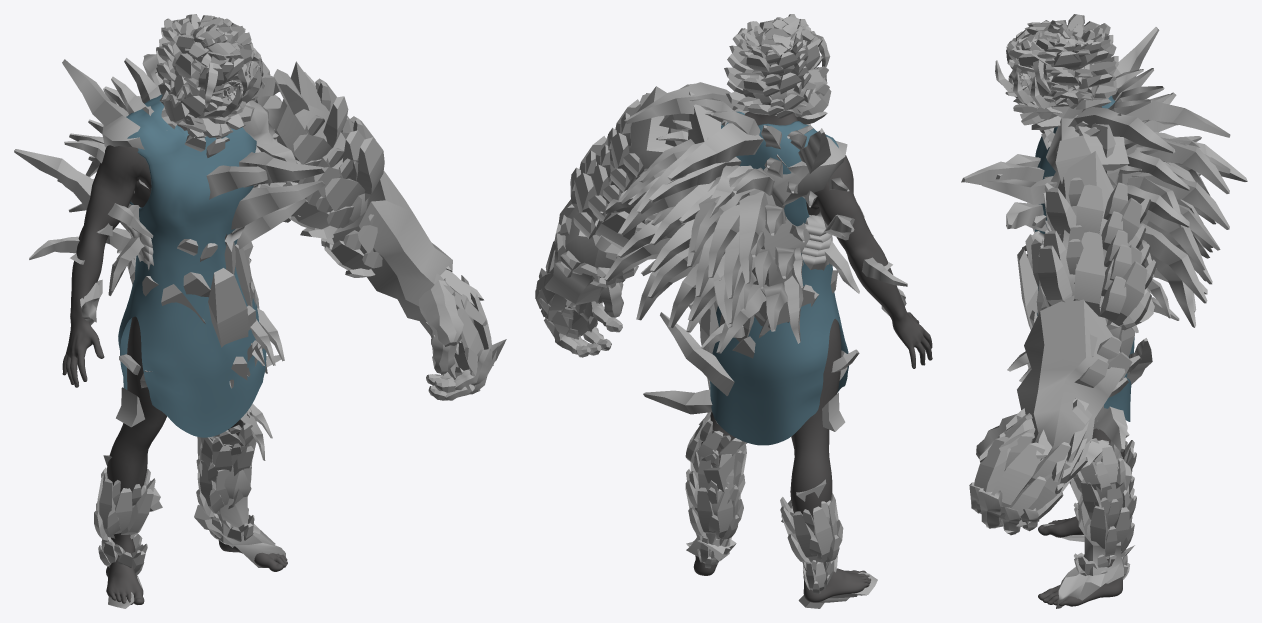
The model's file is ObsidianFBX.fbx.
3 renders of one model, left to right at view 1: azimuth 30°, elevation 25°; view 2: azimuth 150°, elevation 25°; view 3: azimuth 270°, elevation 25°, orthographic. The views are drawn at different scales.
Visible parts, largest first — view 1: polySurface5249, Poncho, polySurface4279, polySurface4261, polySurface4845, polySurface4414; view 2: polySurface4279, polySurface5249, Poncho, polySurface4845, polySurface4261, polySurface4414; view 3: polySurface5249, polySurface4279, polySurface4414, polySurface4845, polySurface4261, Poncho.
Part boxes in pixels (x1=…): polySurface5249: x1=249, y1=60, x2=506, y2=400; Poncho: x1=118, y1=94, x2=266, y2=437; polySurface4279: x1=14, y1=41, x2=325, y2=427; polySurface4261: x1=62, y1=102, x2=287, y2=604; polySurface4845: x1=94, y1=340, x2=285, y2=608; polySurface4414: x1=155, y1=14, x2=263, y2=138; polySurface4279: x1=604, y1=82, x2=907, y2=431; polySurface5249: x1=535, y1=83, x2=694, y2=357; Poncho: x1=710, y1=111, x2=848, y2=445; polySurface4845: x1=643, y1=349, x2=877, y2=608; polySurface4261: x1=693, y1=96, x2=932, y2=602; polySurface4414: x1=724, y1=14, x2=831, y2=124; polySurface5249: x1=969, y1=123, x2=1189, y2=535; polySurface4279: x1=961, y1=27, x2=1247, y2=384; polySurface4414: x1=995, y1=14, x2=1118, y2=130; polySurface4845: x1=1027, y1=363, x2=1136, y2=608; polySurface4261: x1=1022, y1=106, x2=1125, y2=606; Poncho: x1=1034, y1=96, x2=1134, y2=421.
Bounding box in the file's own units: 1.37 × 1.78 × 0.8355.
